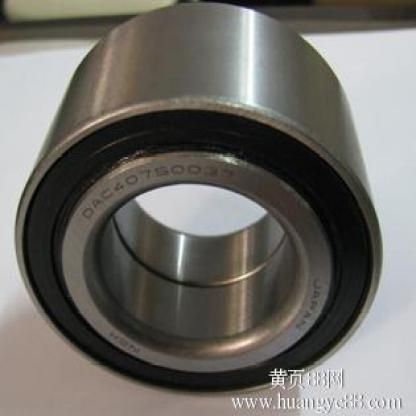FOD: (12, 1, 386, 402)
